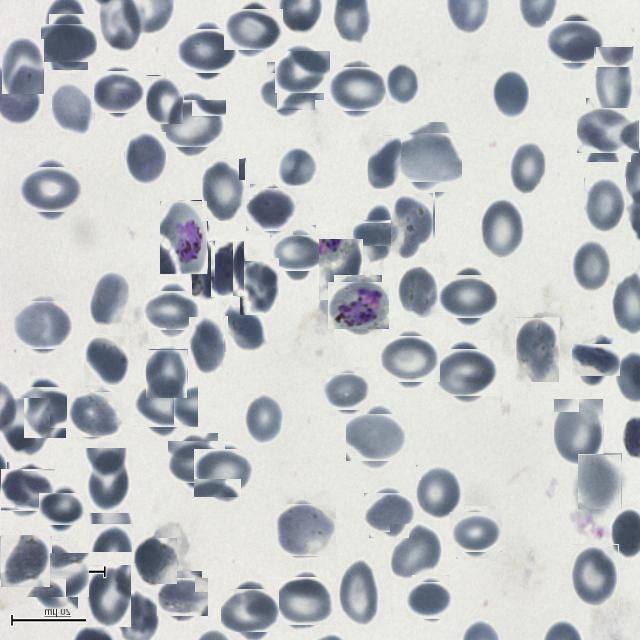red blood cell: (397, 128, 457, 188), (554, 398, 604, 466), (163, 94, 221, 152), (277, 501, 334, 558), (438, 344, 494, 400), (28, 547, 84, 603), (84, 448, 132, 513), (24, 162, 78, 218), (89, 484, 133, 552), (17, 298, 72, 352), (197, 446, 251, 501), (581, 104, 636, 158), (390, 192, 434, 259), (278, 574, 332, 628), (383, 332, 437, 386), (139, 378, 193, 432), (572, 544, 619, 606), (594, 46, 634, 118), (349, 411, 402, 465), (390, 524, 442, 579), (516, 317, 560, 382), (84, 565, 130, 627), (332, 62, 384, 116), (182, 24, 234, 78), (481, 198, 526, 260), (202, 158, 246, 221), (338, 561, 380, 627), (442, 270, 494, 323), (1, 398, 50, 454), (19, 382, 71, 434), (319, 239, 363, 300), (550, 16, 601, 67), (225, 584, 275, 636), (1, 536, 52, 586), (416, 465, 462, 520), (172, 437, 222, 487), (69, 390, 119, 440), (228, 5, 278, 54), (578, 454, 622, 509), (89, 272, 132, 328), (3, 466, 52, 514), (278, 48, 327, 96), (584, 178, 626, 233), (2, 39, 44, 94), (95, 68, 143, 116), (147, 286, 195, 334), (262, 67, 310, 115), (189, 316, 228, 375), (52, 81, 95, 134), (398, 264, 440, 318), (45, 18, 92, 66), (82, 336, 128, 385), (125, 131, 167, 184), (248, 186, 295, 233), (366, 490, 412, 536), (453, 510, 499, 556), (275, 230, 321, 276), (240, 262, 279, 316), (245, 393, 285, 445), (571, 240, 611, 292), (146, 349, 188, 398), (510, 140, 548, 194), (160, 574, 205, 619), (224, 304, 266, 352), (134, 538, 177, 584), (211, 240, 245, 297), (408, 578, 452, 622), (491, 68, 528, 119), (146, 75, 184, 124), (325, 370, 368, 413), (368, 135, 402, 189), (277, 145, 319, 187), (386, 57, 422, 106), (192, 242, 222, 300), (360, 213, 402, 254), (576, 340, 616, 380), (42, 489, 82, 528)
trophozoite: (160, 200, 208, 274), (330, 278, 386, 332)
